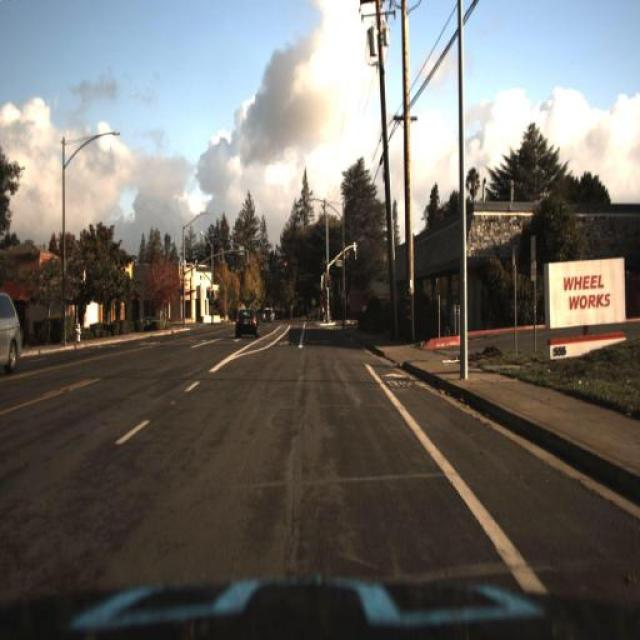car: (0, 290, 21, 376), (232, 305, 260, 341), (258, 304, 277, 328), (260, 307, 276, 323)
trafficLight-RedLeft: (280, 258, 289, 278)
trafficLight-Yellow: (204, 280, 211, 299)
